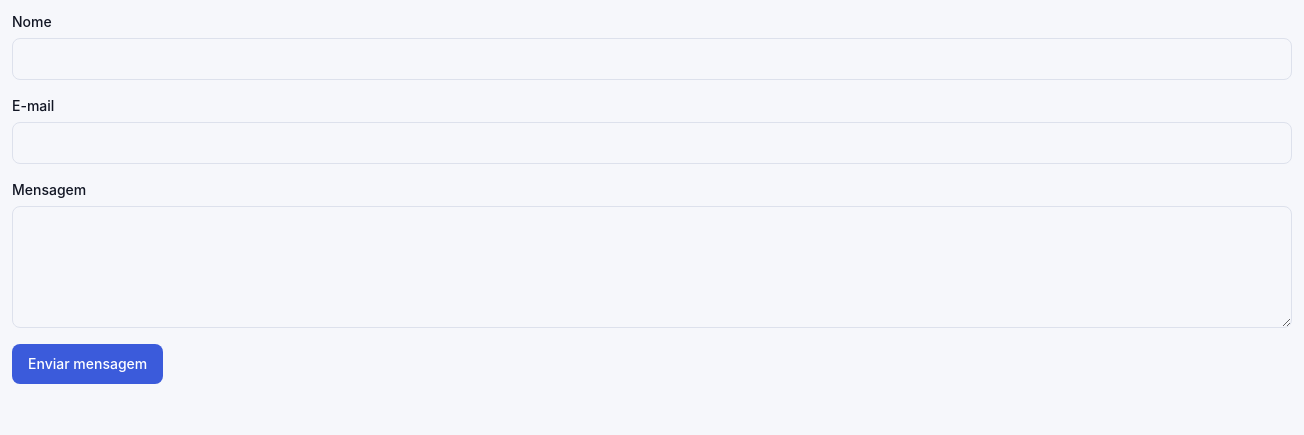
Test: <ContactForm /> quando o envio falha › exibe feedback de erro e mantém o que o visitante digitou
Type "Maria Silva" into the field labelled "Nome" at (652,59), box [12,38,1292,80]
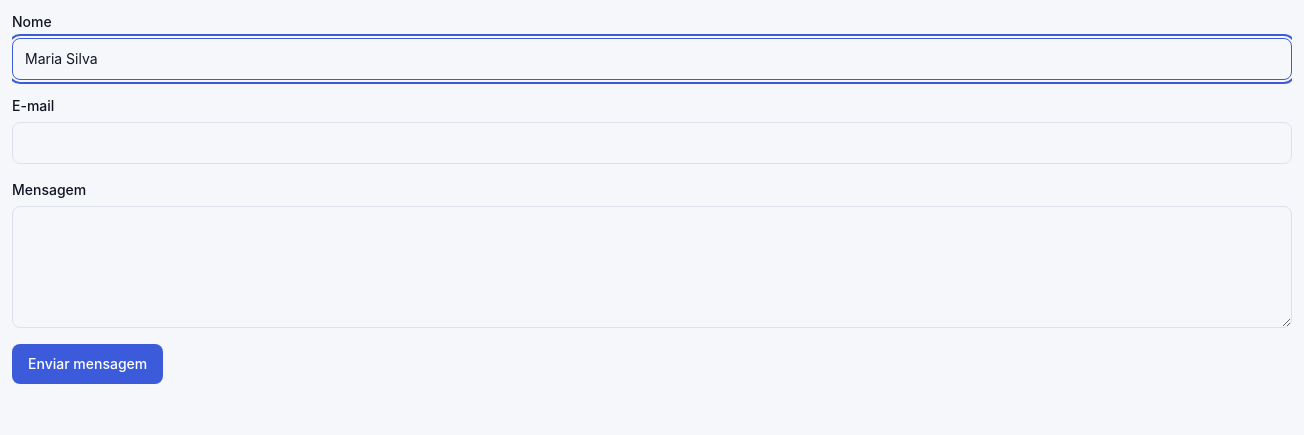
Type "maria@exemplo.com" into the field labelled "E-mail" at (652,143), box [12,122,1292,164]
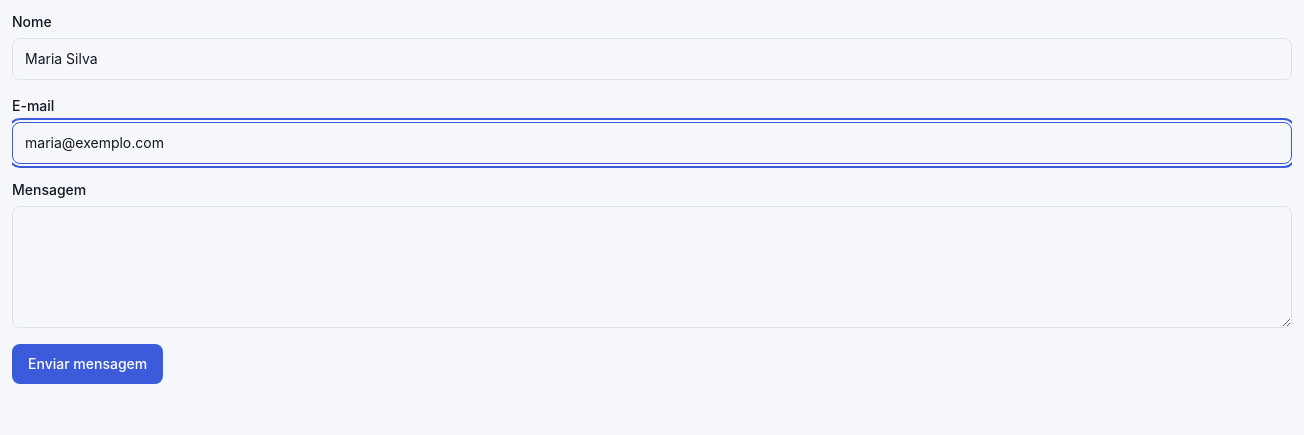
Type "Uma mensagem com mais de vinte caracteres." into the text box labelled "Mensagem" at (652,267), box [12,206,1292,328]
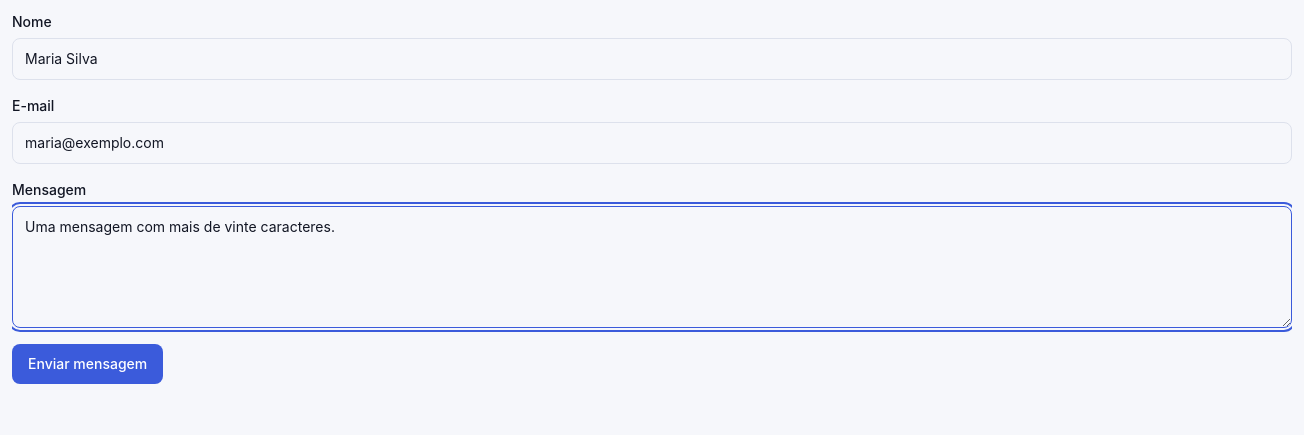
Click the button "Enviar mensagem" at (88,364), box [12,344,163,384]
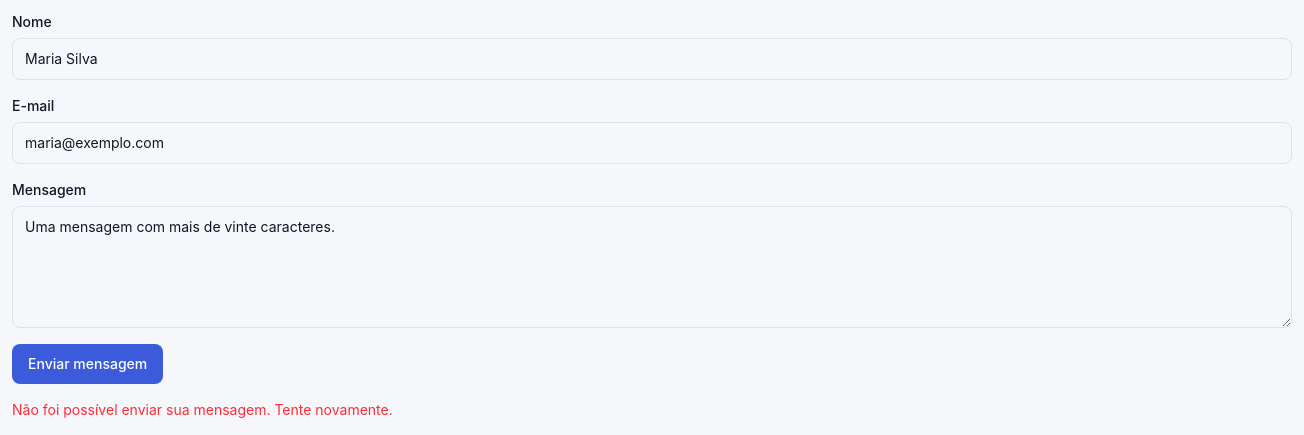
Now the text "Não foi possível enviar sua mensagem. Tente novamente." is shown, box [12,401,393,418]
